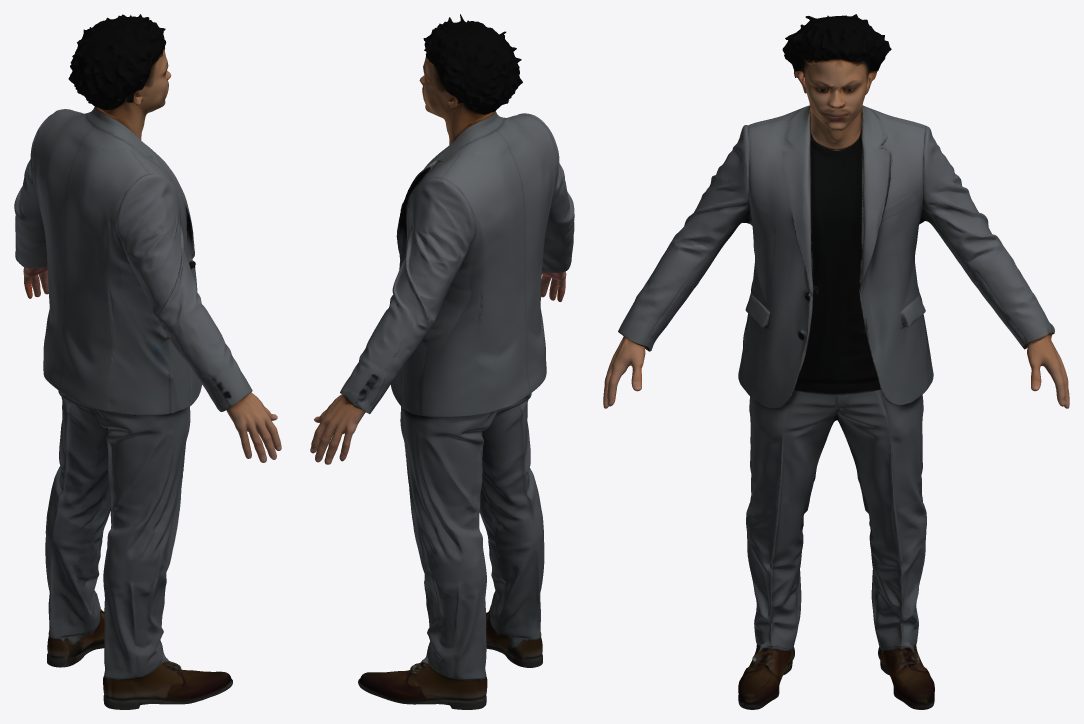
Rendered from me_animated.glb.
3 views of the same model, side by side, from view 1: azimuth 30°, elevation 25°; view 2: azimuth 150°, elevation 25°; view 3: azimuth 270°, elevation 25° (orthographic). The views are drawn at different scales.
Visible parts, largest first — view 1: tripo_node_c367faf8-fd0b-459d-b9db-cfa831f703bb; view 2: tripo_node_c367faf8-fd0b-459d-b9db-cfa831f703bb; view 3: tripo_node_c367faf8-fd0b-459d-b9db-cfa831f703bb.
Boxes of the visible parts, box(x1,y1,x2,y2) form: tripo_node_c367faf8-fd0b-459d-b9db-cfa831f703bb: box(14, 14, 281, 709); tripo_node_c367faf8-fd0b-459d-b9db-cfa831f703bb: box(310, 14, 574, 709); tripo_node_c367faf8-fd0b-459d-b9db-cfa831f703bb: box(603, 14, 1069, 709).
Bounding box in the file's own units: 0.2075 × 1 × 0.633.
Materials: 1 (1 with a texture image).
